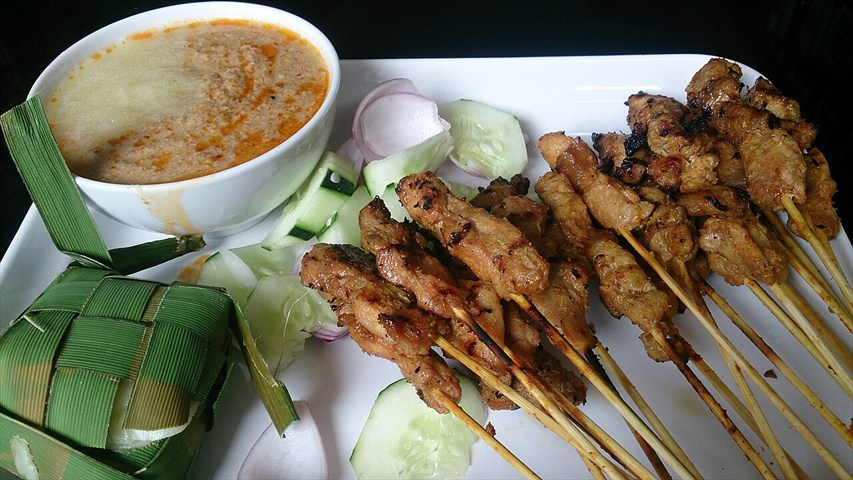Sate Ayam: (93, 11, 707, 453)
